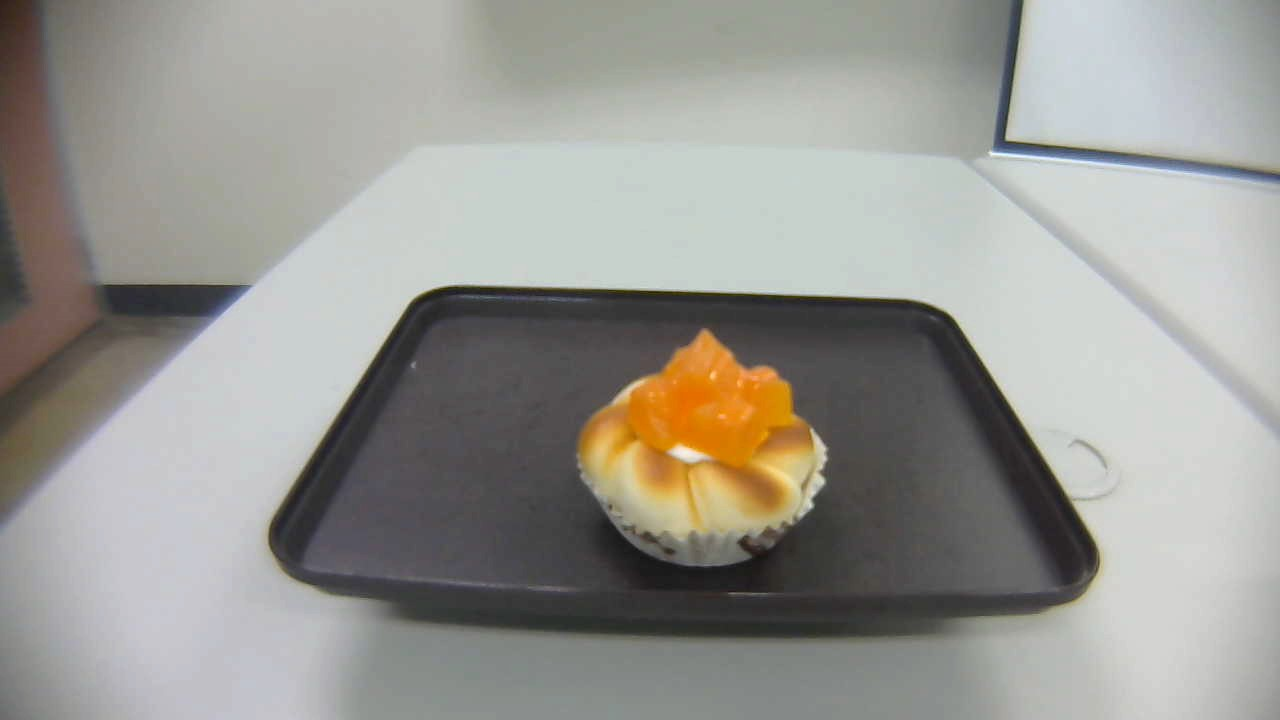mango tart: (577, 327, 830, 567)
